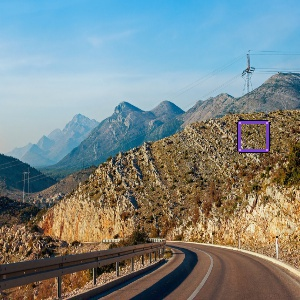square: (235, 118, 273, 154)
